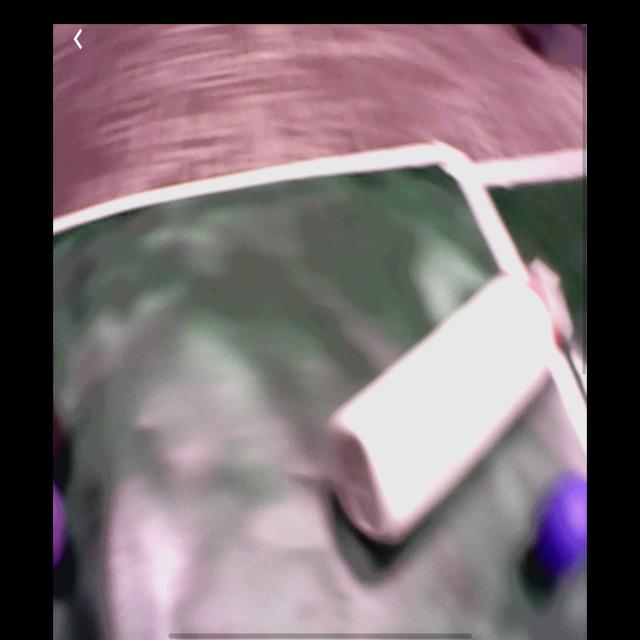ball: (538, 475, 590, 575), (53, 485, 68, 576)
